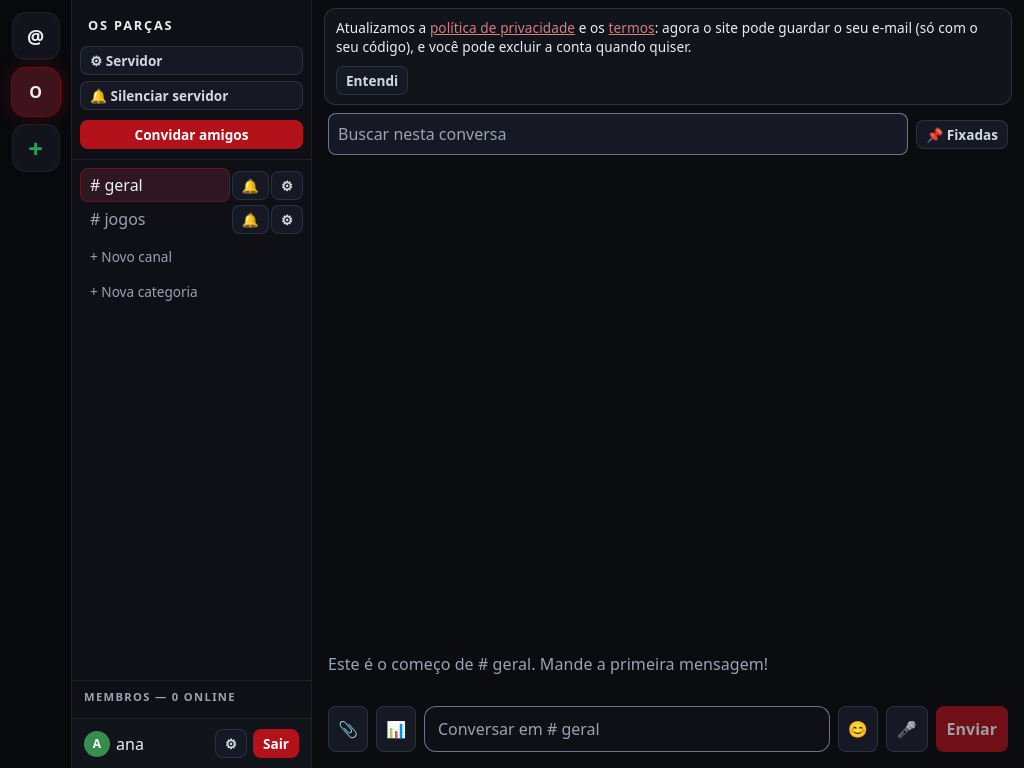
it: mensagens › envia uma mensagem: aparece na lista e limpa a caixa
Step 1. Type "  oi pessoal  " into the field named "Mensagem em # geral" → (627, 729), box [424,706,830,752]
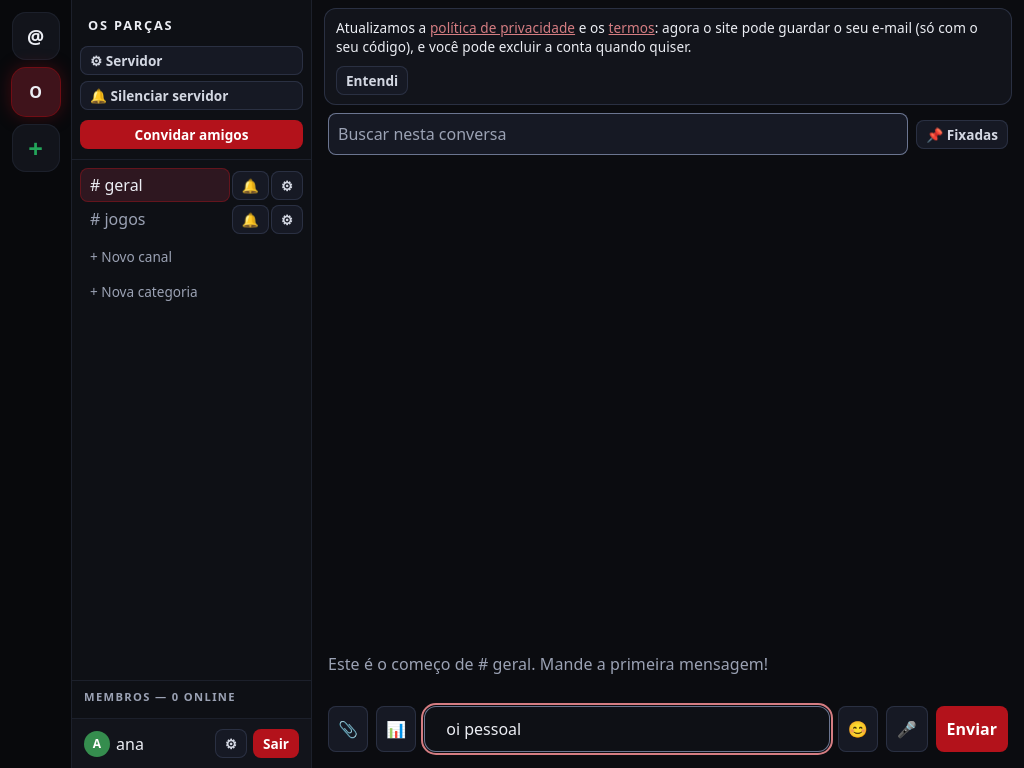
Step 2. Click the button "Enviar" → (972, 729), box [936,706,1008,752]
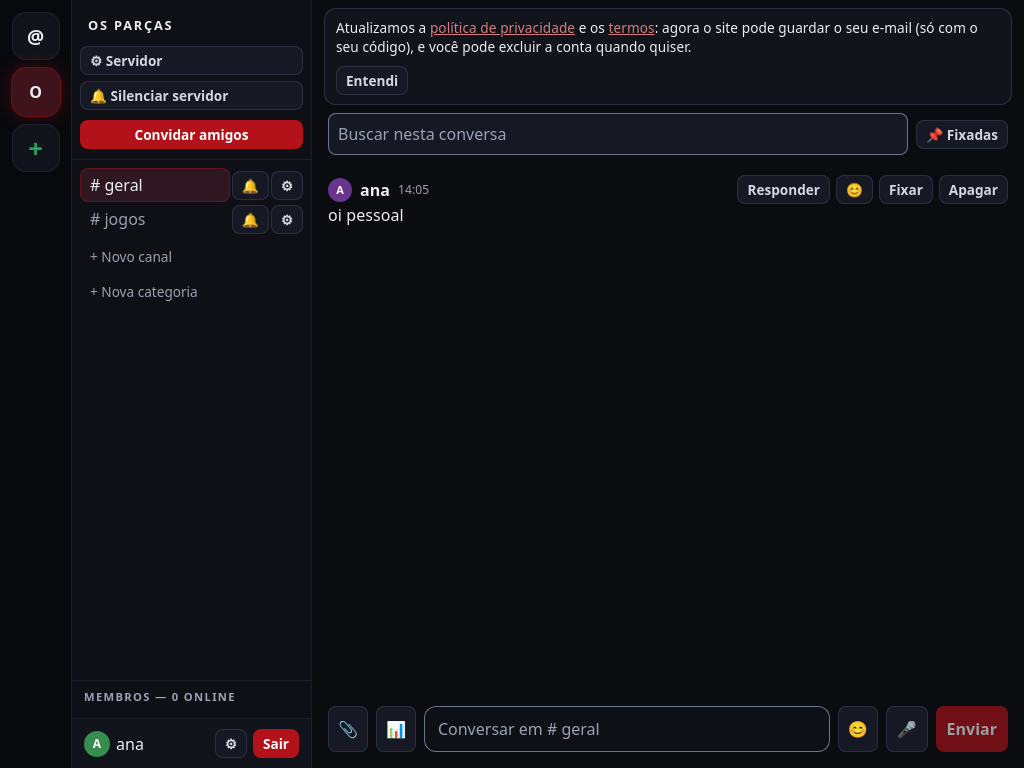
Now the text "oi pessoal" is shown, box [328,204,404,226]
Now the field named "Mensagem em # geral" is empty, box [424,706,830,752]
